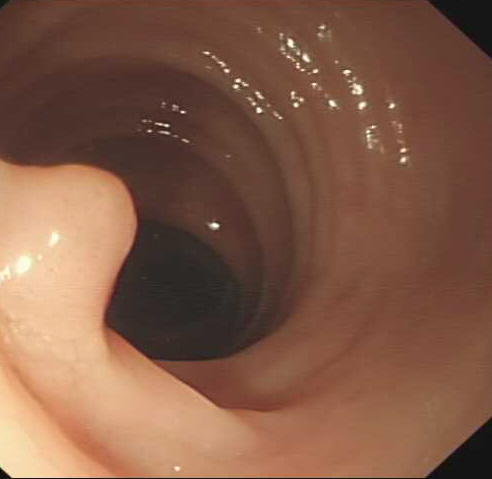others: (3, 161, 139, 326)
